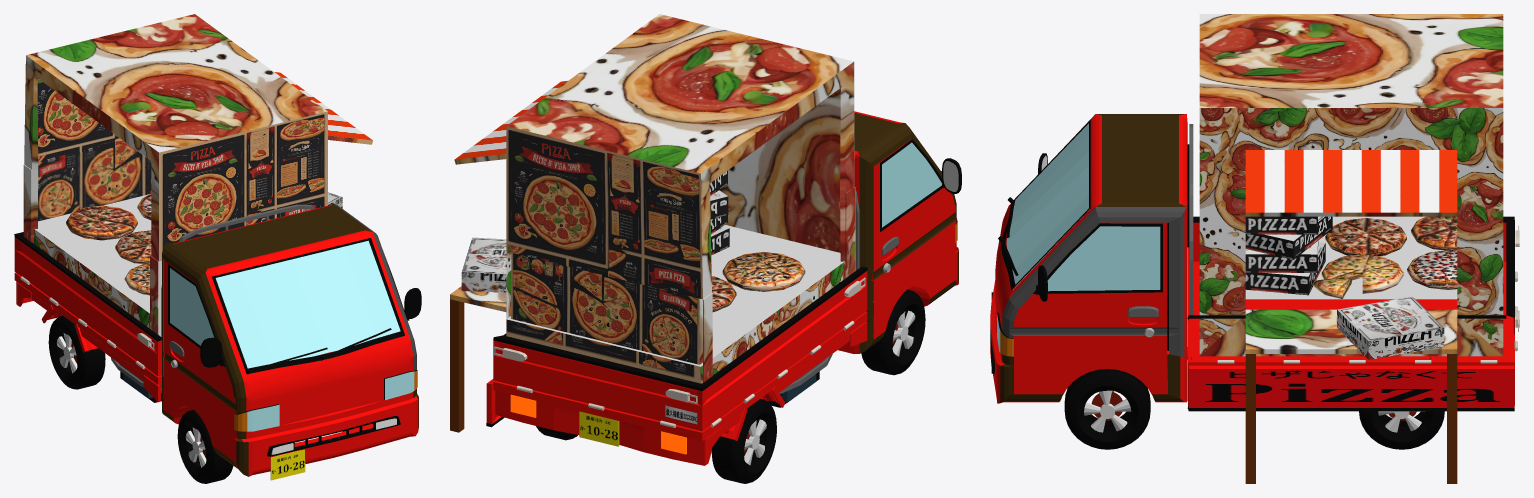
File: pizza_kichin.fbx
The picture shows the model from 3 angles, left to right: view 1: azimuth 30°, elevation 25°; view 2: azimuth 150°, elevation 25°; view 3: azimuth 270°, elevation 25°; orthographic projection. The views are drawn at different scales.
Visible parts, largest first — view 1: cube, cube.002, Cylinder.002, Cylinder.003, Cylinder.004; view 2: cube.002, cube, Cylinder.004, Cube.006, Cube, Cylinder.003; view 3: cube.002, cube, cube.001, Cube.006, Cylinder.003, Cylinder.001, Cube.004, Cylinder, Cube.002, Cube.003, Cube, Cube.001 (+3 smaller).
Boxes of the visible parts, x1,y1,x2,y2 form: cube: (14, 203, 421, 483); cube.002: (23, 14, 372, 336); Cylinder.002: (66, 205, 137, 240); Cylinder.003: (115, 230, 151, 264); Cylinder.004: (124, 263, 149, 295); cube.002: (450, 14, 855, 383); cube: (493, 111, 961, 483); Cylinder.004: (722, 252, 805, 291); Cube.006: (461, 237, 506, 292); Cube: (450, 299, 464, 432); Cylinder.003: (711, 276, 736, 312); cube.002: (1199, 14, 1503, 356); cube: (990, 114, 1519, 449); cube.001: (1187, 365, 1514, 411); Cube.006: (1337, 296, 1444, 359); Cylinder.003: (1325, 218, 1406, 255); Cylinder.001: (1321, 254, 1403, 293); Cube.004: (1245, 216, 1332, 259); Cylinder: (1407, 250, 1457, 289); Cube.002: (1245, 242, 1325, 295); Cube.003: (1245, 241, 1318, 272); Cube: (1447, 354, 1457, 483); Cube.001: (1245, 354, 1255, 483).
Size of the model in its own units: 911 by 919 by 1293.
